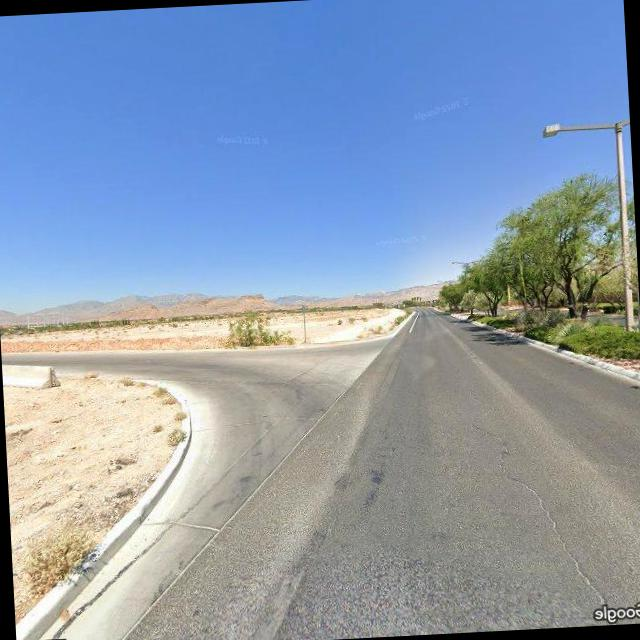pothole: (509, 462, 608, 608)
